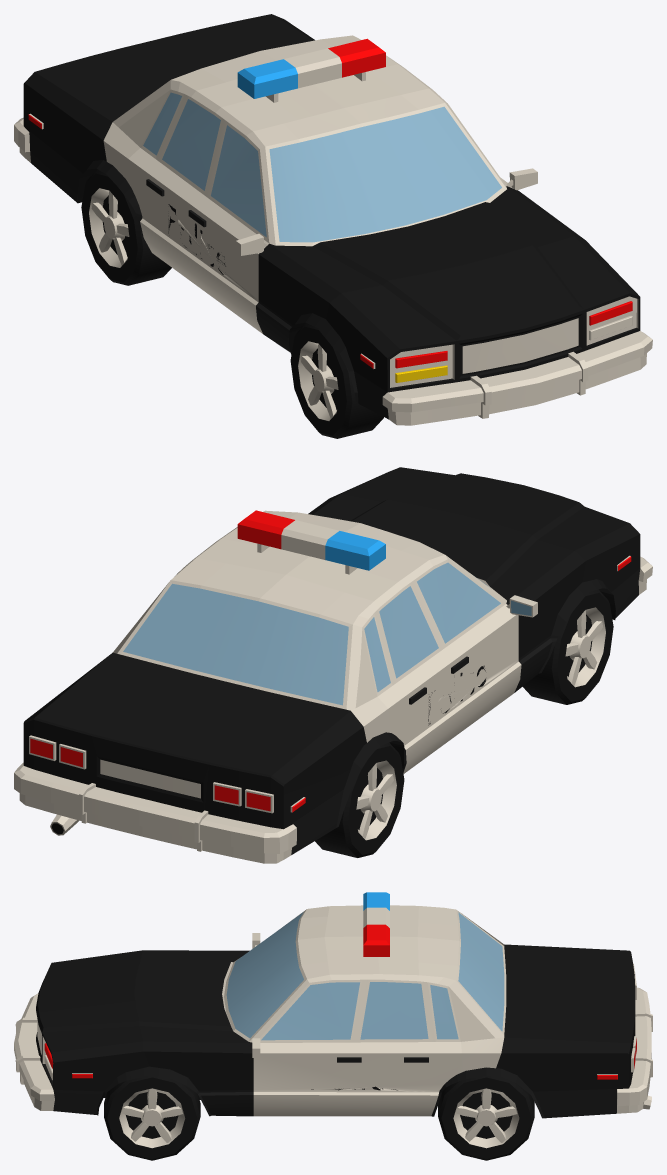
Rendered from Police Car N_4.fbx.
3 renders of one model, top to bottom at view 1: azimuth 30°, elevation 25°; view 2: azimuth 150°, elevation 25°; view 3: azimuth 270°, elevation 25°, orthographic. The views are drawn at different scales.
Visible parts, largest first — view 1: Police Car N_4 FL Tire; view 2: Police Car N_4 FL Tire; view 3: Police Car N_4 FL Tire.
Part boxes in pixels (x1,y1,x2,y2): Police Car N_4 FL Tire: (14,14,652,438); Police Car N_4 FL Tire: (14,467,652,863); Police Car N_4 FL Tire: (14,892,652,1160).
Bounding box in the file's own units: 213 × 167 × 497.
1 material, 1 textured.
